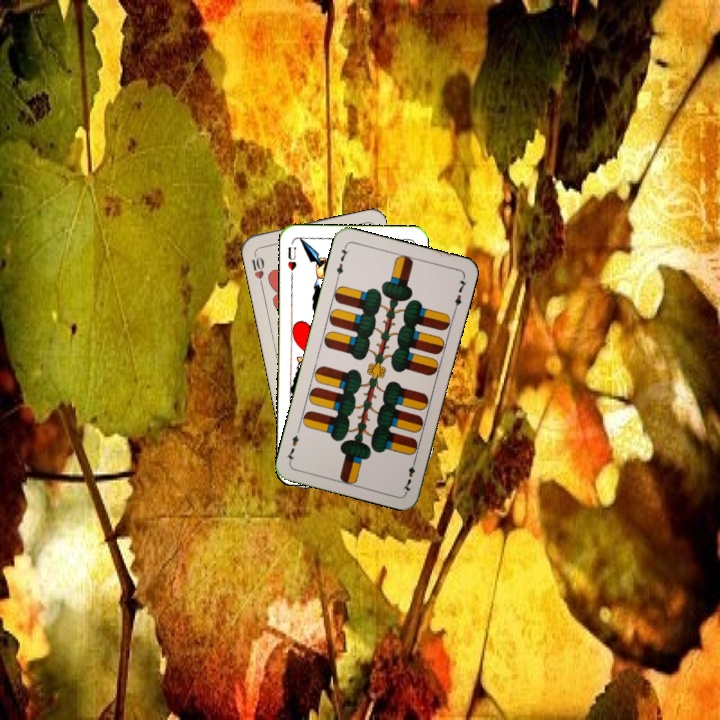E7: (399, 455, 419, 494), (332, 242, 351, 282)
H10: (247, 248, 267, 288)
HU: (284, 243, 299, 280)
